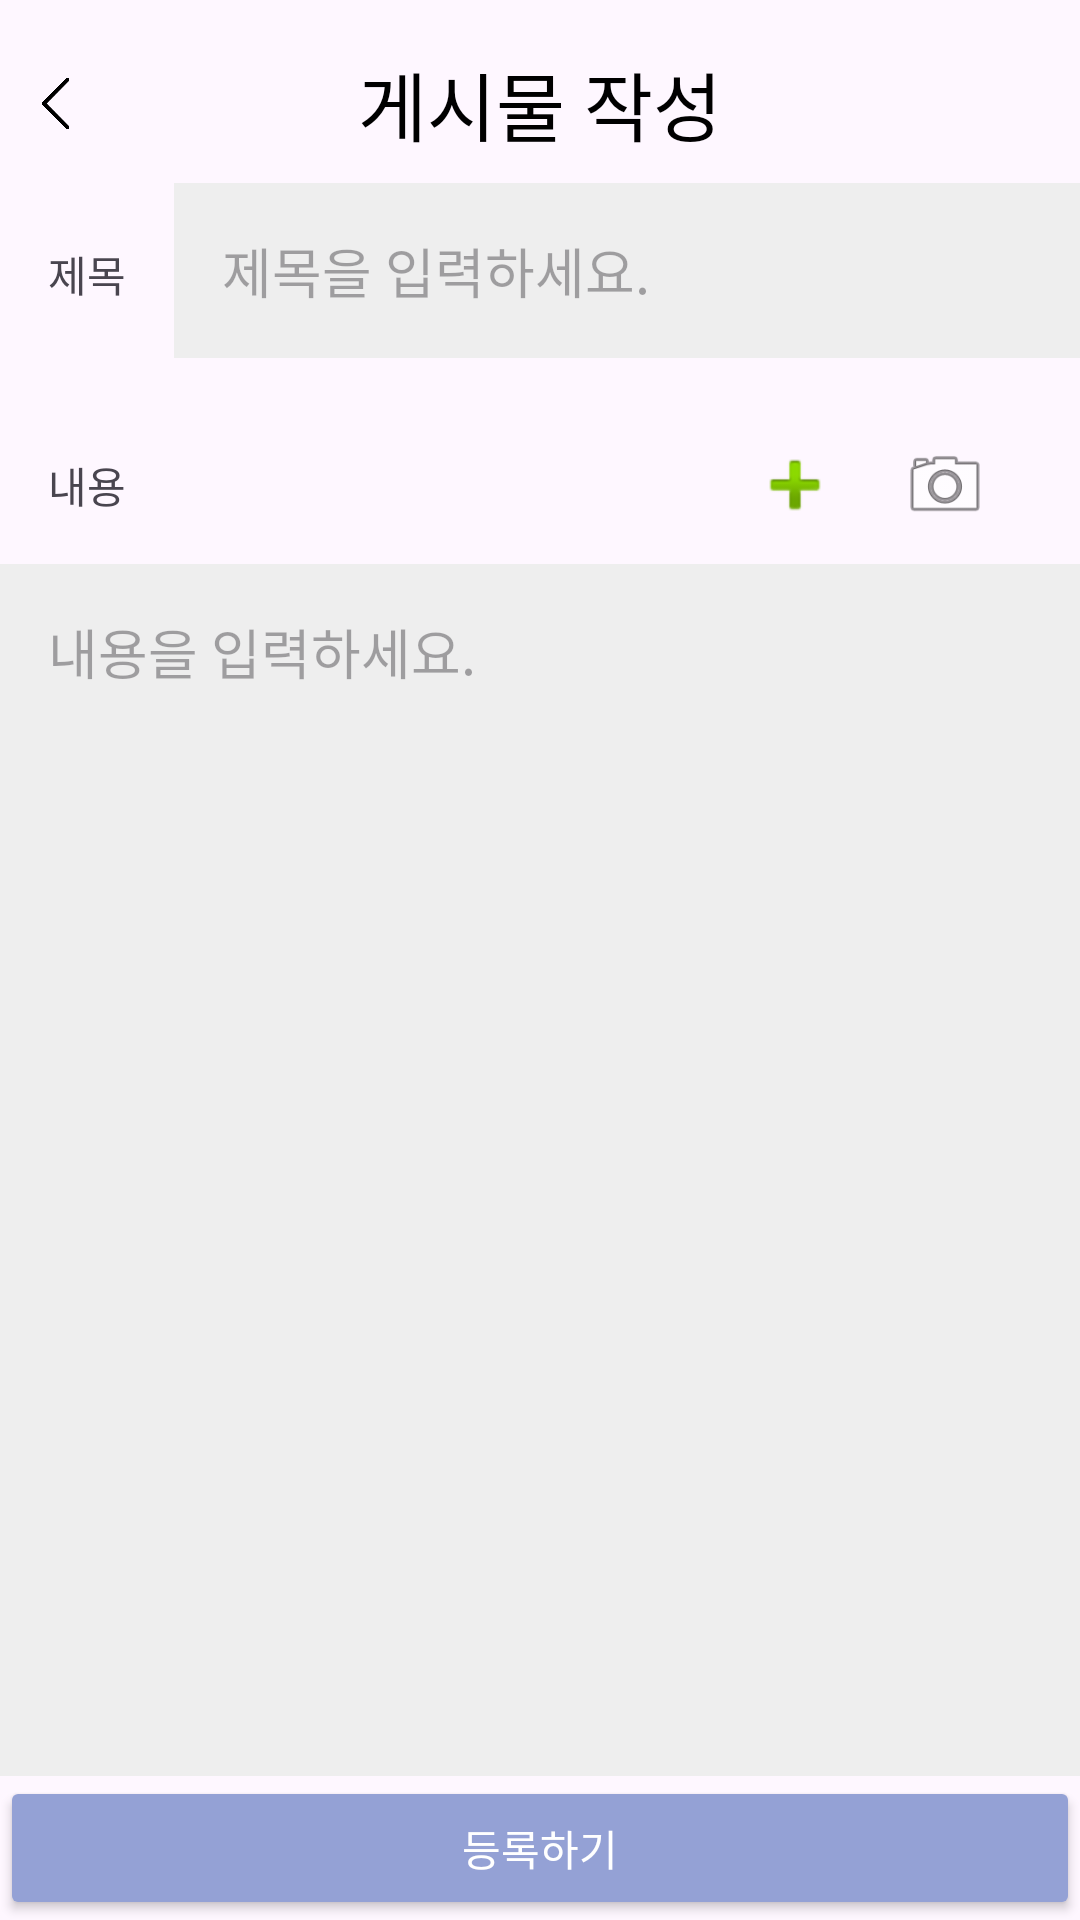

Screen size 1080px×1920px. Icon name, then its box in pixels as (x1, y1, x2, y2):
add: (769, 459, 821, 511)
back: (42, 78, 69, 129)
camera: (910, 456, 980, 511)
